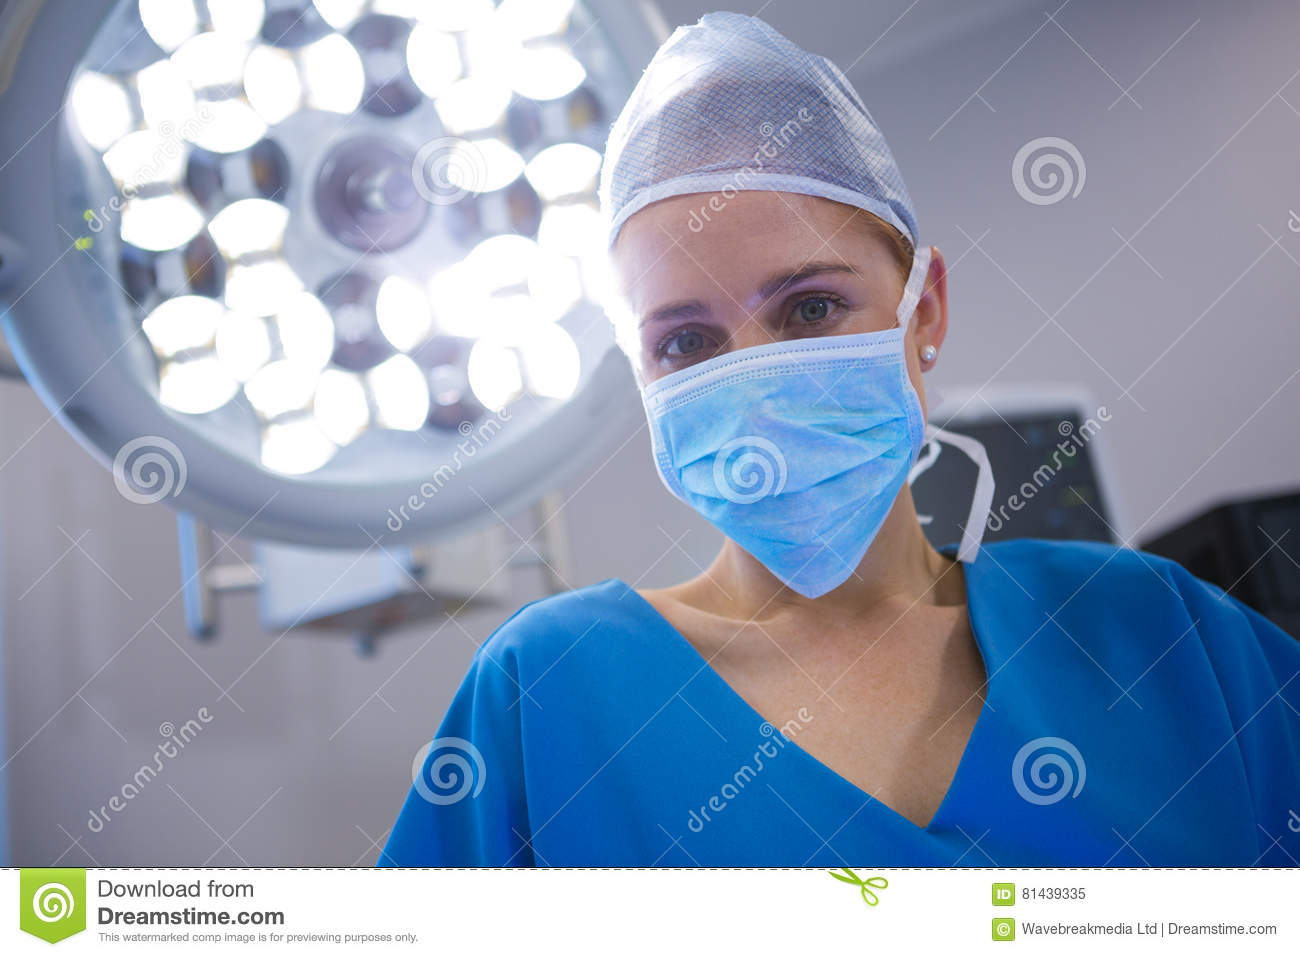mask: (642, 358, 957, 608)
